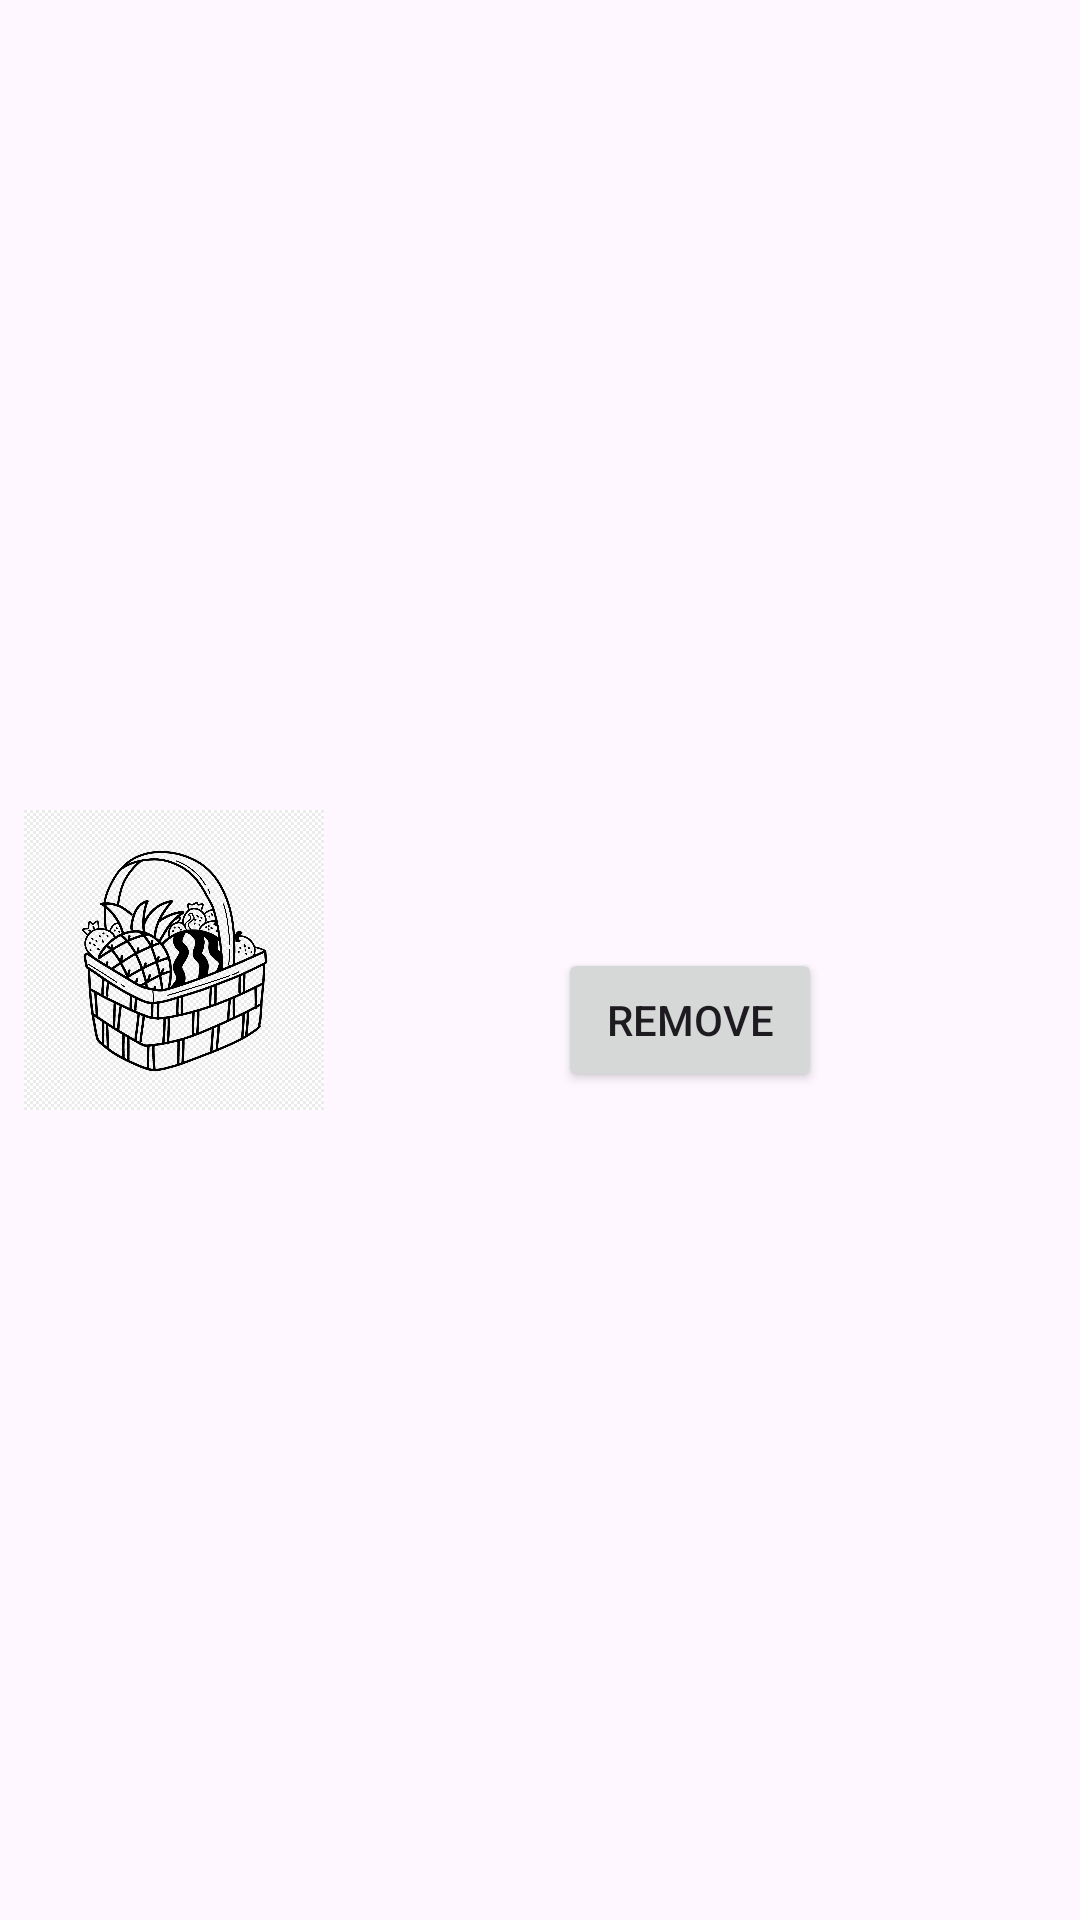

Point at icon controls on the screen. Image size 1080×1920, points as (x=x, y=y).
Product Image: (x=175, y=961)
